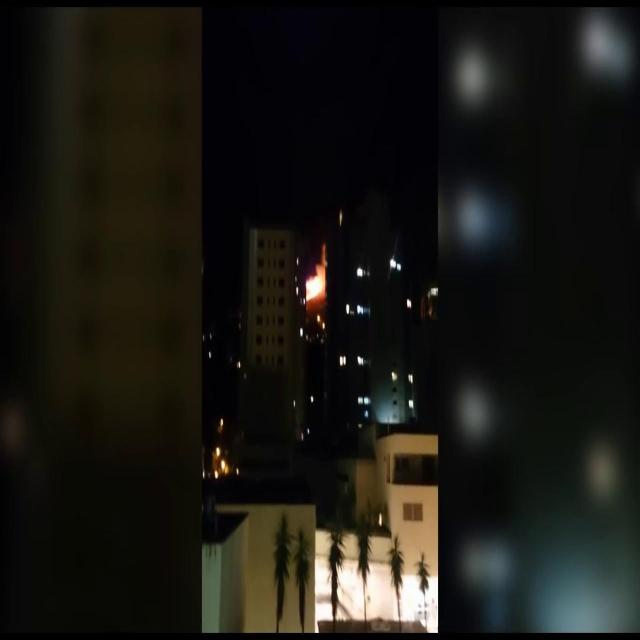Fire: (303, 269, 325, 304)
